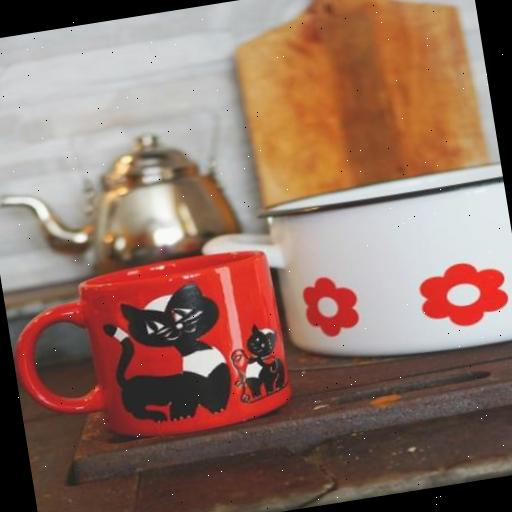cup: (2, 244, 294, 460)
